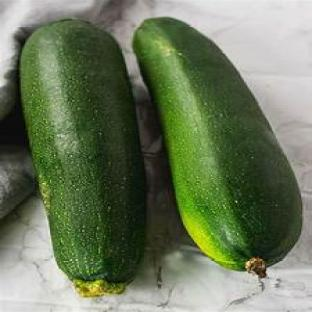Zucchini: (134, 18, 302, 276), (21, 20, 145, 296)
